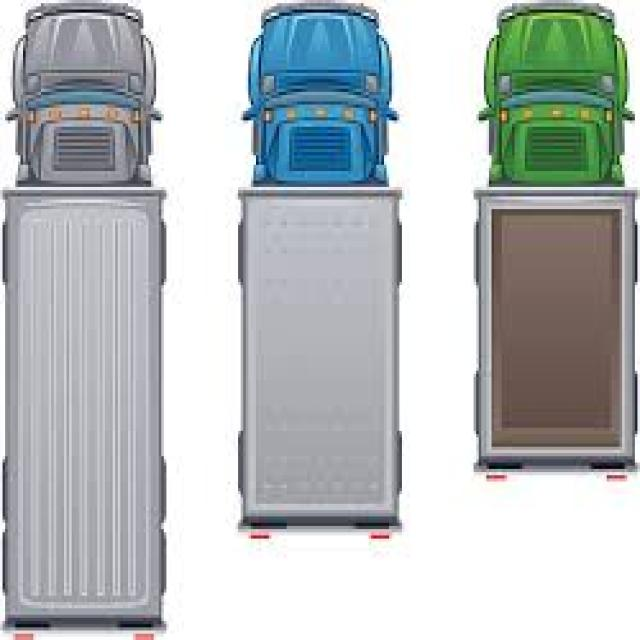truck: (8, 0, 172, 634), (241, 0, 402, 545), (476, 2, 638, 486)
